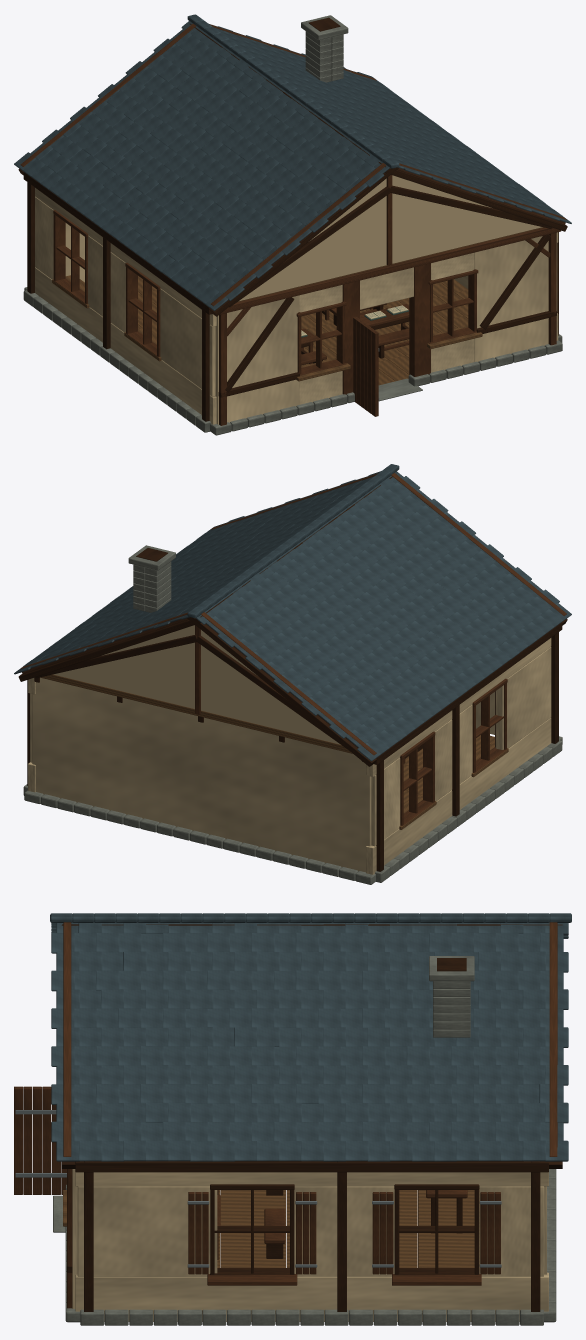
Rendered from schoolhouse.glb.
3 views of the same model, one above another, from view 1: azimuth 30°, elevation 25°; view 2: azimuth 150°, elevation 25°; view 3: azimuth 270°, elevation 25° (orthographic). The views are drawn at different scales.
Parts seen in each view (by area): view 1: Slate shingle, Rear limewashed wall, East sill, East window jamb, Side stone footing, Deep window sill; view 2: Slate shingle, Rear limewashed wall, East window jamb, Side stone footing, East sill, Deep window sill; view 3: Slate shingle, Rear limewashed wall, East sill, East window jamb, Side stone footing, Deep window sill, Shutter strap.
Part boxes in pixels (bbox=[...]): Slate shingle: bbox=[14, 14, 571, 310]; Rear limewashed wall: bbox=[35, 175, 558, 424]; East sill: bbox=[20, 24, 566, 425]; East window jamb: bbox=[18, 17, 567, 421]; Side stone footing: bbox=[23, 15, 562, 435]; Deep window sill: bbox=[52, 227, 543, 385]; Slate shingle: bbox=[14, 464, 571, 761]; Rear limewashed wall: bbox=[28, 625, 551, 874]; East window jamb: bbox=[18, 476, 567, 871]; Side stone footing: bbox=[23, 545, 562, 884]; East sill: bbox=[20, 473, 566, 825]; Deep window sill: bbox=[40, 674, 508, 880]; Slate shingle: bbox=[50, 913, 571, 1161]; Rear limewashed wall: bbox=[72, 1169, 548, 1321]; East sill: bbox=[14, 922, 557, 1308]; East window jamb: bbox=[61, 924, 562, 1311]; Side stone footing: bbox=[53, 956, 556, 1325]; Deep window sill: bbox=[63, 1189, 479, 1267]; Shutter strap: bbox=[15, 1110, 501, 1267].
Bounding box in the file's own units: 10.77 × 6.78 × 11.19.
Materials: 11 (9 with a texture image).
